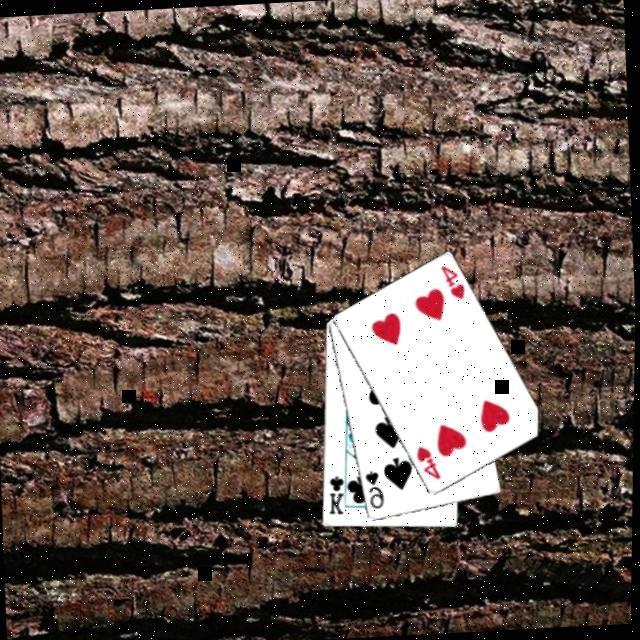4H: (440, 262, 470, 304), (416, 444, 446, 484)
9S: (365, 468, 391, 513)
KC: (328, 470, 355, 518)
